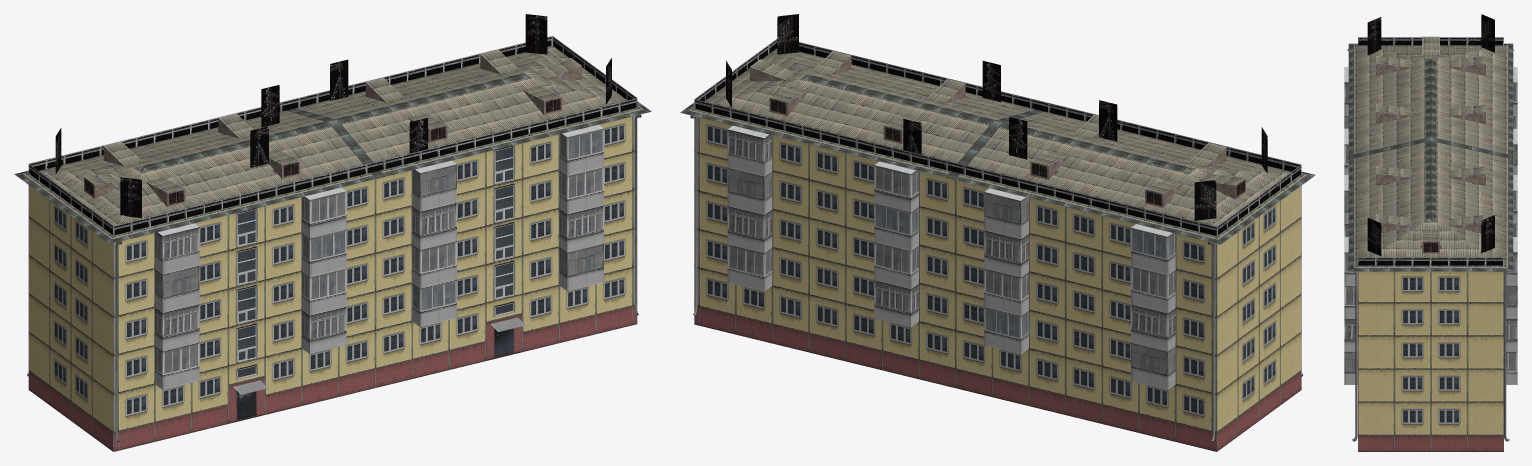
The model's file is rus_build_5et_03a.fbx.
The picture shows the model from 3 angles, left to right: view 1: azimuth 30°, elevation 25°; view 2: azimuth 150°, elevation 25°; view 3: azimuth 270°, elevation 25°; orthographic projection. The views are drawn at different scales.
Visible parts, largest first — view 1: Regroup13, rus_build_dec_01; view 2: Regroup13, rus_build_dec_01; view 3: Regroup13, rus_build_dec_01.
Part boxes in pixels (box(x1,y1,x2,y2)): Regroup13: box(14, 45, 651, 451); rus_build_dec_01: box(28, 14, 637, 235); Regroup13: box(680, 48, 1315, 451); rus_build_dec_01: box(694, 14, 1301, 235); Regroup13: box(1344, 36, 1517, 451); rus_build_dec_01: box(1358, 14, 1503, 265).
Bounding box in the file's own units: 4130 × 1925 × 1330.
